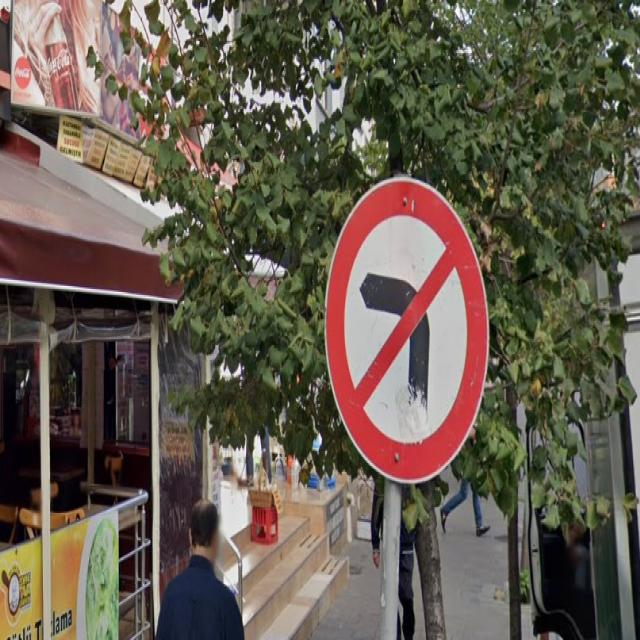soladonulmez: (324, 176, 491, 484)
